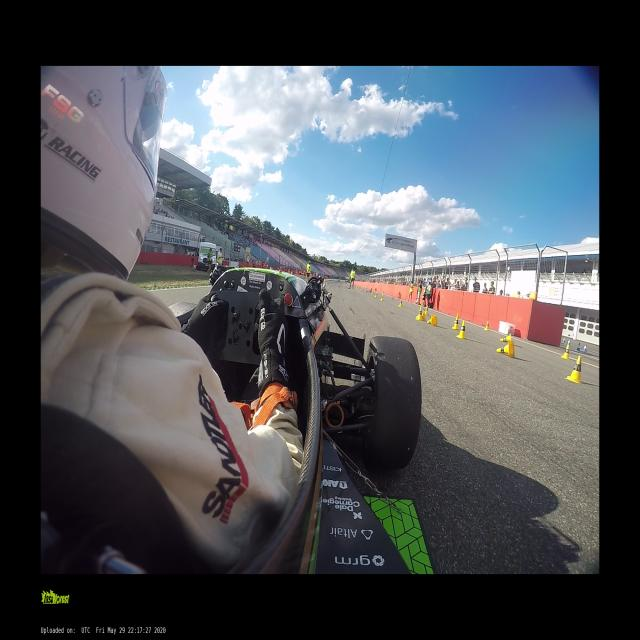blue_cone: (583, 343, 587, 352), (577, 343, 580, 351), (563, 337, 565, 343), (568, 340, 570, 344), (326, 281, 327, 284), (329, 281, 330, 283), (328, 281, 328, 284)
yellow_cone: (567, 356, 582, 384), (496, 340, 515, 357), (458, 320, 467, 339), (562, 344, 570, 360), (499, 333, 512, 342), (452, 314, 459, 329), (427, 315, 437, 325), (416, 312, 426, 320), (418, 307, 422, 319), (484, 321, 489, 330), (398, 299, 403, 306), (381, 293, 384, 301), (425, 306, 428, 314), (375, 291, 377, 297), (366, 287, 367, 292), (372, 290, 373, 295), (361, 286, 362, 290), (358, 286, 359, 289), (356, 285, 357, 288)
